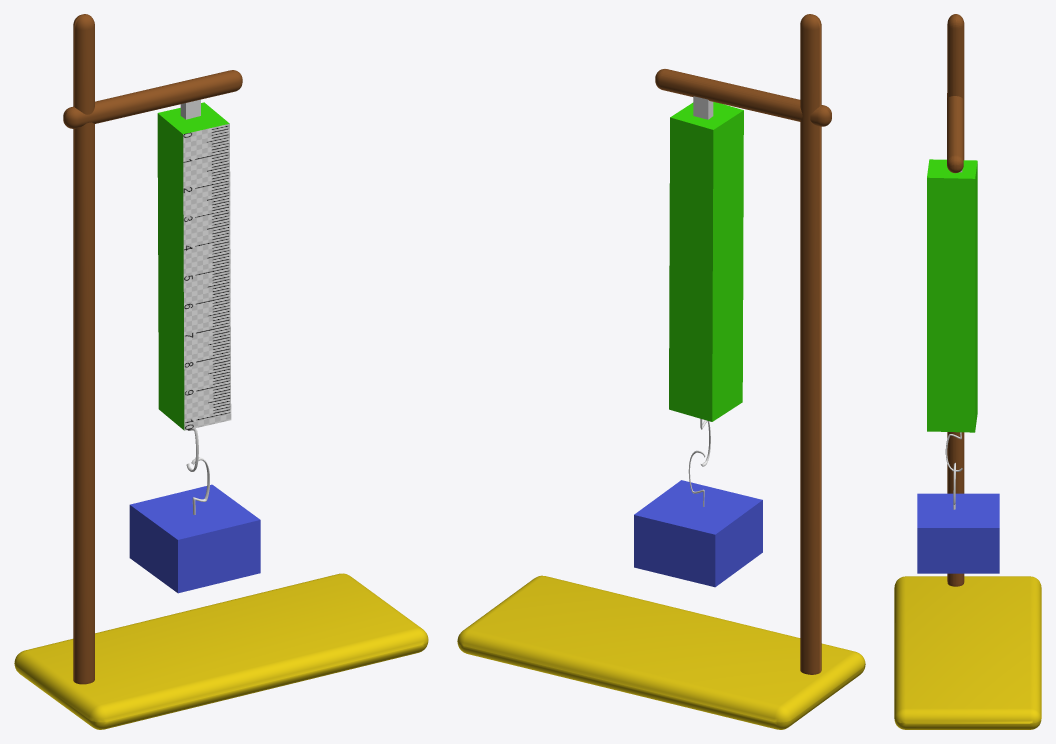
The model's file is statif.glb.
3 renders of one model, left to right at view 1: azimuth 30°, elevation 25°; view 2: azimuth 150°, elevation 25°; view 3: azimuth 270°, elevation 25°, orthographic. The views are drawn at different scales.
Visible parts, largest first — view 1: pied, tubeDynam, vertical, masse, horizontal; view 2: pied, tubeDynam, vertical, masse, horizontal; view 3: pied, tubeDynam, masse, vertical, horizontal.
Boxes of the visible parts, x1=… form: pied: x1=14, y1=573, x2=428, y2=729; tubeDynam: x1=157, y1=102, x2=231, y2=430; vertical: x1=73, y1=14, x2=94, y2=684; masse: x1=129, y1=484, x2=260, y2=593; horizontal: x1=63, y1=70, x2=242, y2=128; pied: x1=457, y1=575, x2=865, y2=729; tubeDynam: x1=669, y1=102, x2=743, y2=421; vertical: x1=800, y1=14, x2=821, y2=674; masse: x1=634, y1=480, x2=762, y2=587; horizontal: x1=655, y1=69, x2=831, y2=126; pied: x1=894, y1=576, x2=1041, y2=729; tubeDynam: x1=927, y1=159, x2=977, y2=432; masse: x1=917, y1=493, x2=999, y2=573; vertical: x1=947, y1=14, x2=964, y2=586; horizontal: x1=947, y1=93, x2=963, y2=173.
Bounding box in the file's own units: 3.43 × 6.68 × 1.51.
Materials: 5 (1 with a texture image).
